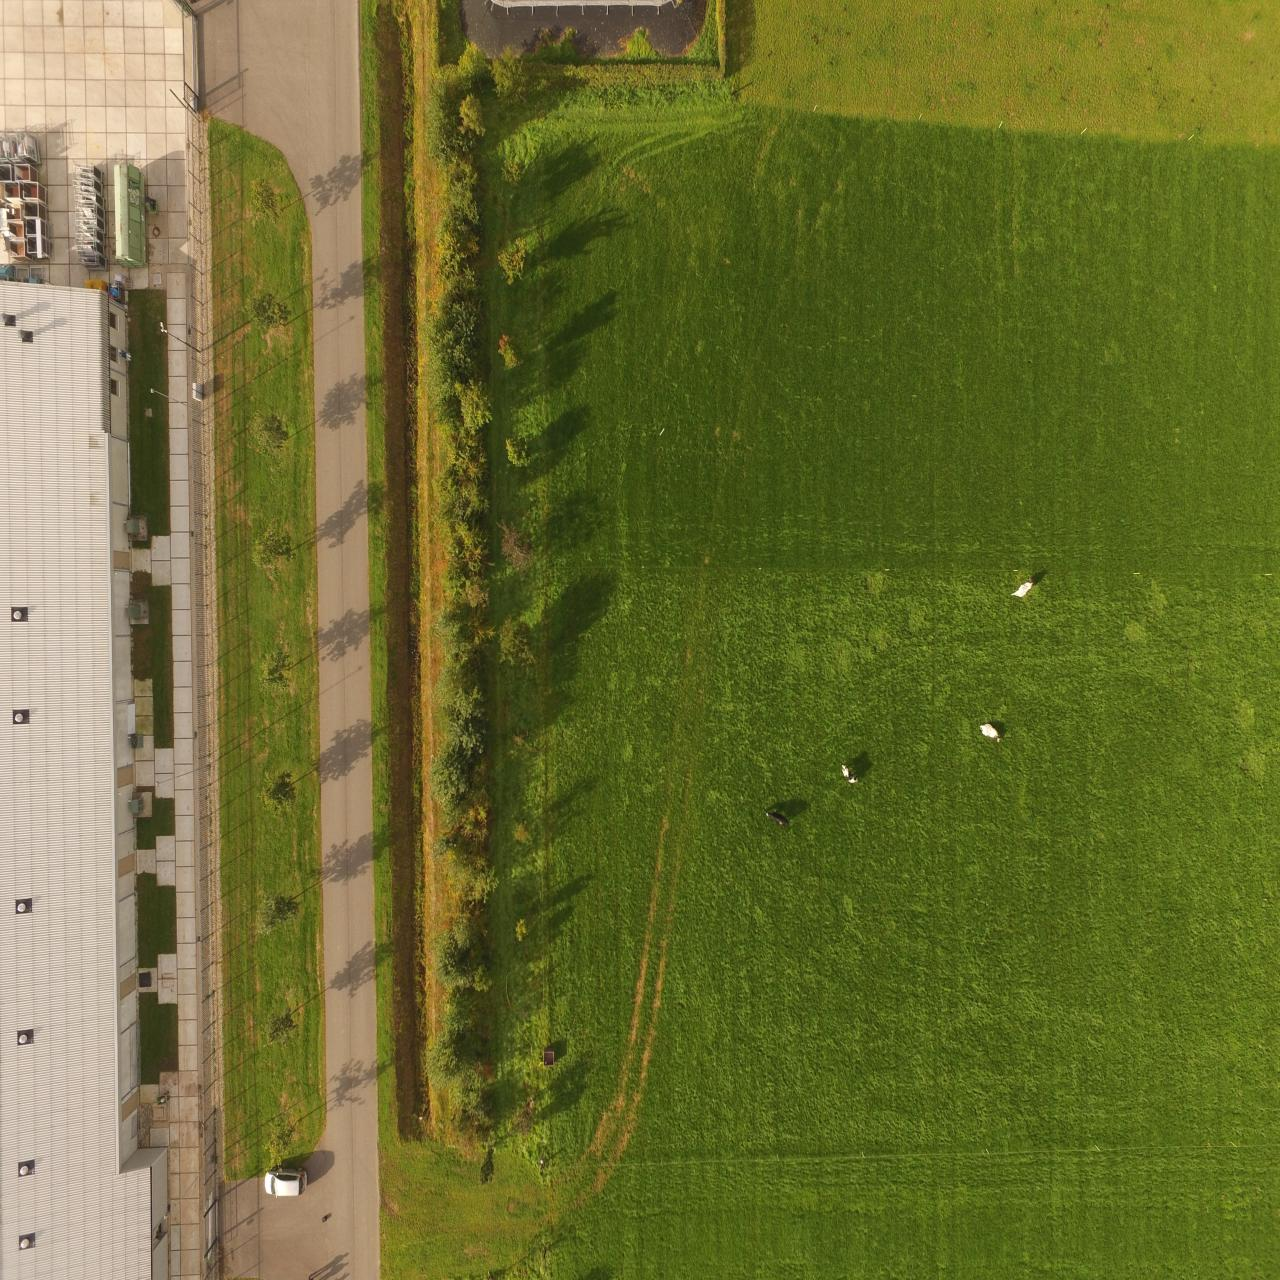cow: (976, 709, 1008, 753), (1008, 567, 1040, 602), (764, 802, 794, 832), (843, 751, 859, 798)
